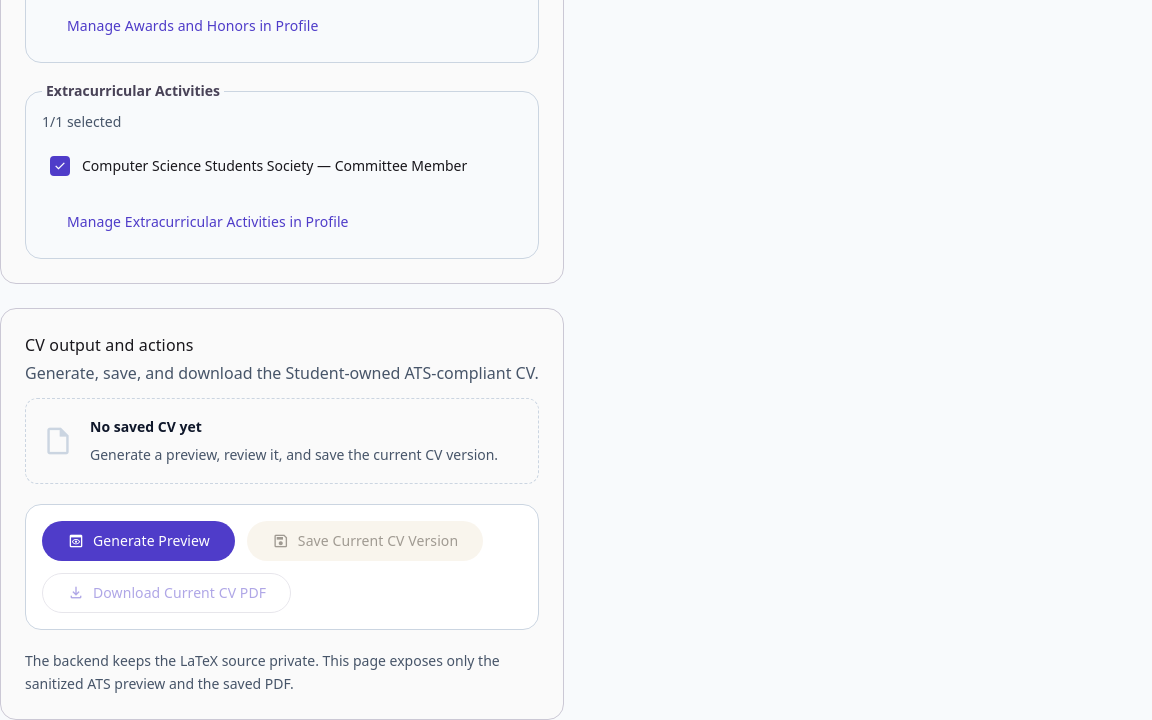
it: CvBuilderPage › retains configuration and requires regeneration after expiry
(page scrolled)
Click the button "Generate Preview" at [138, 541], box [42,521,235,561]
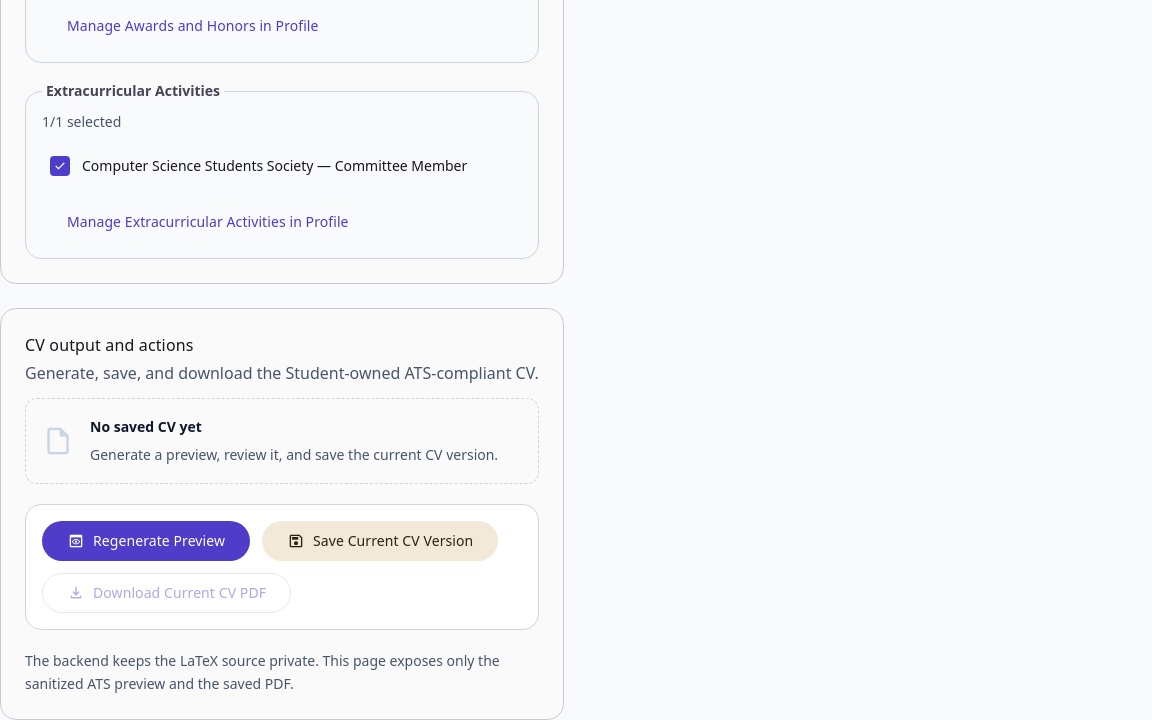
Click the button "Save Current CV Version" at [380, 541], box [262,521,498,561]
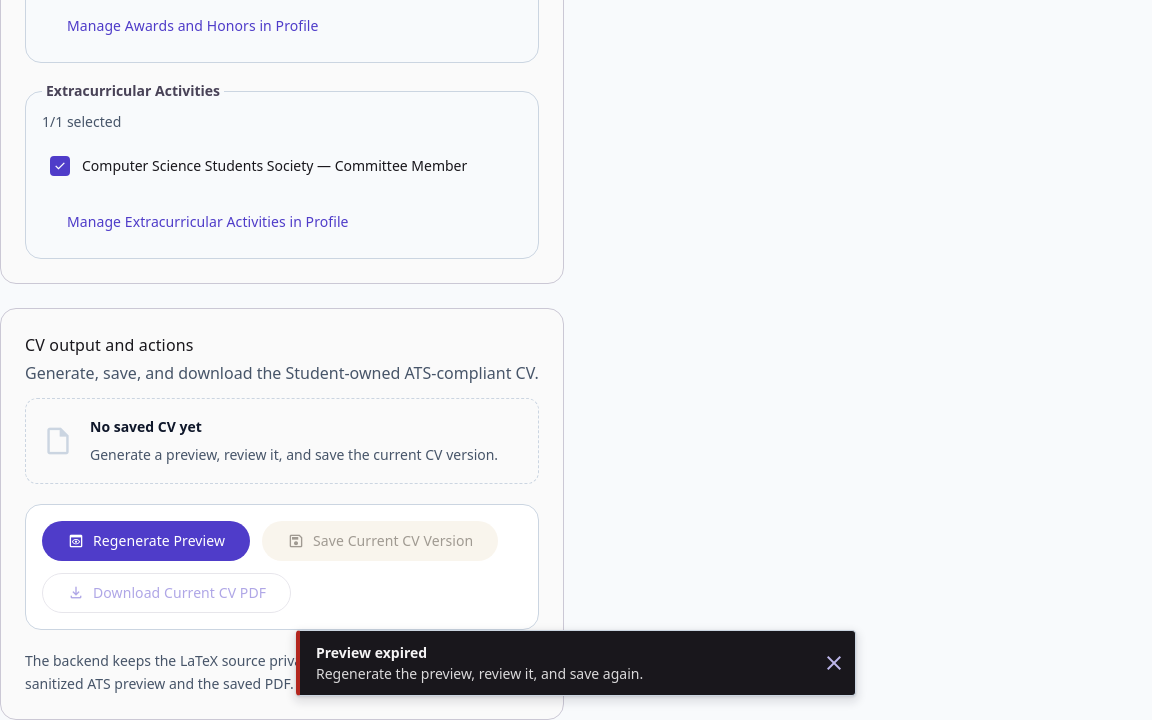
Expected: the button "Save Current CV Version" is disabled, [262,521,498,561]
